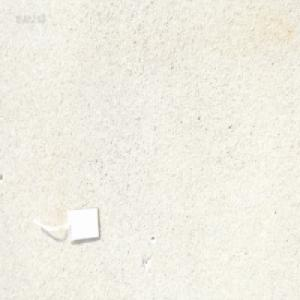LuggageTag: (32, 202, 101, 244)
